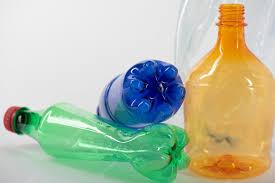plastic: (183, 7, 275, 167), (5, 104, 185, 183)
